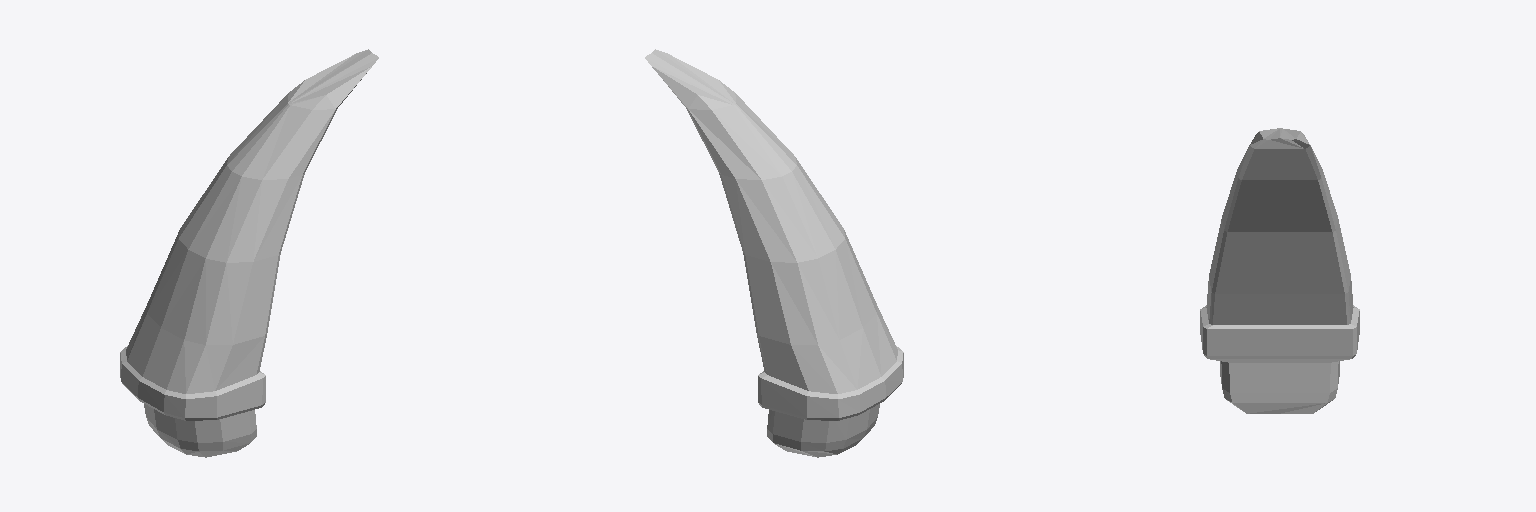
The model's file is character_queenArmRight.obj.
3 views of the same model, side by side, from view 1: azimuth 30°, elevation 25°; view 2: azimuth 150°, elevation 25°; view 3: azimuth 270°, elevation 25° (orthographic).
Parts seen in each view (by area): view 1: character_queenArmRight_Cube.163; view 2: character_queenArmRight_Cube.163; view 3: character_queenArmRight_Cube.163.
Part boxes in pixels (x1,y1,x2,y2): character_queenArmRight_Cube.163: (120,49,378,457); character_queenArmRight_Cube.163: (645,49,903,457); character_queenArmRight_Cube.163: (1200,128,1359,413).
Size of the model in its own units: 0.4036 by 0.5708 by 0.2371.